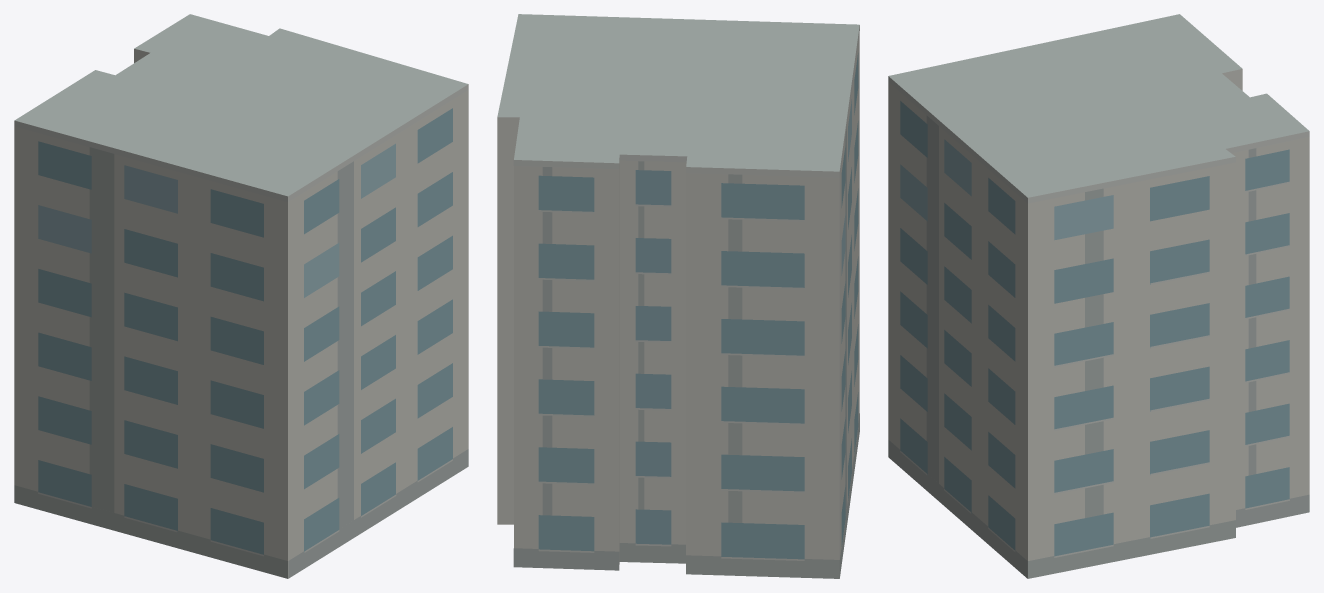
Rendered from survey-upis-32740181.glb.
3 renders of one model, left to right at view 1: azimuth 30°, elevation 25°; view 2: azimuth 150°, elevation 25°; view 3: azimuth 270°, elevation 25°, orthographic. The views are drawn at different scales.
Visible parts, largest first — view 1: survey-upis-32740181.tmp; view 2: survey-upis-32740181.tmp; view 3: survey-upis-32740181.tmp.
Boxes of the visible parts, x1,y1,x2,y2 form: survey-upis-32740181.tmp: [14, 14, 468, 578]; survey-upis-32740181.tmp: [497, 14, 859, 578]; survey-upis-32740181.tmp: [888, 14, 1309, 578].
Bounding box in the file's own units: 16.97 × 16.4 × 16.44.
